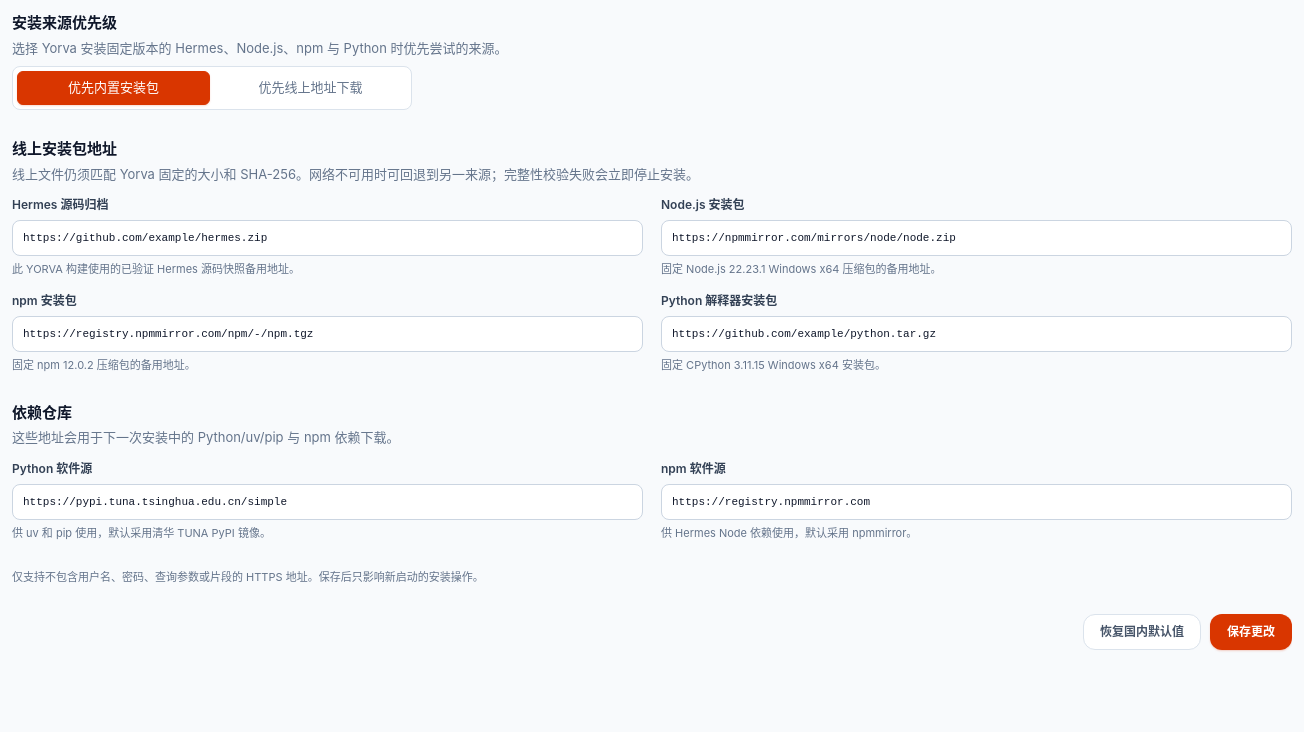
Scenario: HermesDownloadSourcesPanel › loads grouped settings and saves an edited Python mirror
The image size is (1304, 732).
Replace the text in the field showing "https://pypi.tuna.tsinghua.edu.cn/simple" with "https://mirror.example/pypi/simple" at (328, 502), box [12,484,643,520]
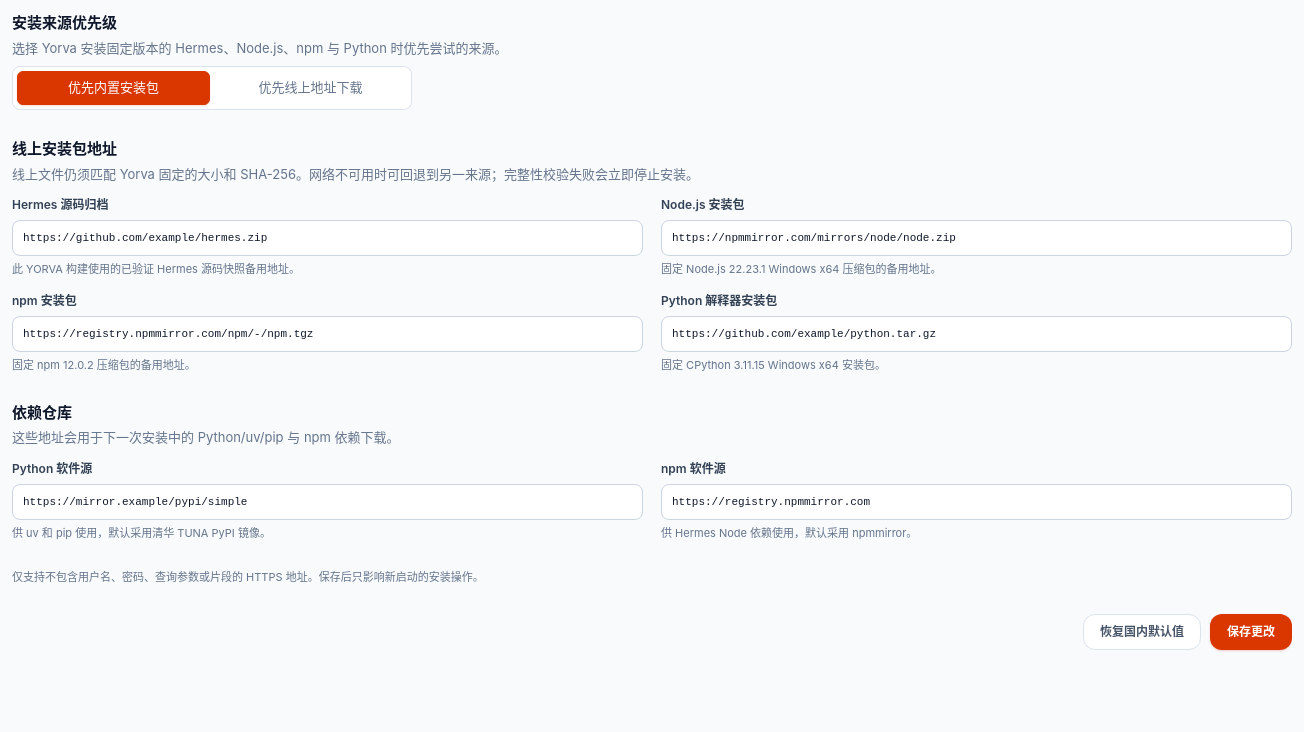
Click the button "保存更改" at (1251, 632), box [1210,614,1292,650]
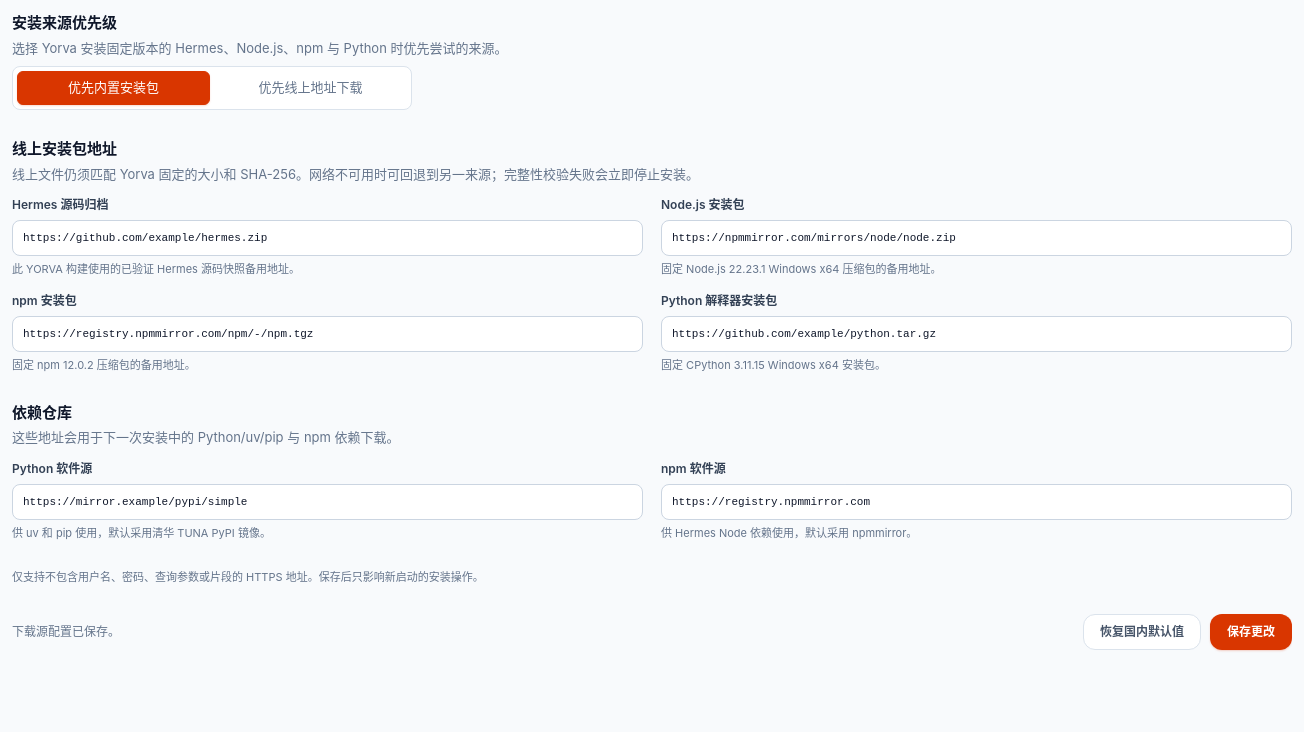
Expected: the text "下载源配置已保存。" is shown, [12,623,120,641]
